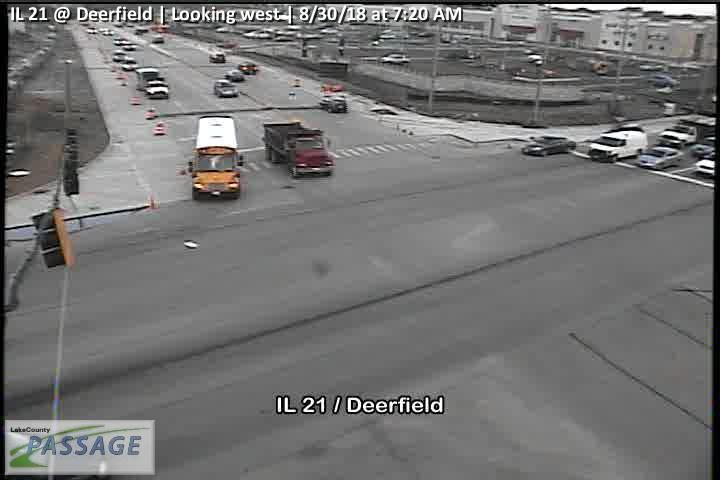Bus: (188, 117, 244, 199)
SUV: (589, 130, 648, 161)
Sedan: (523, 135, 577, 157), (638, 146, 683, 169), (319, 93, 347, 113), (214, 78, 239, 97), (381, 52, 410, 64), (239, 62, 258, 73), (208, 51, 225, 62), (226, 70, 243, 79), (151, 34, 164, 43)
Truck: (260, 119, 336, 176), (135, 66, 169, 98)
